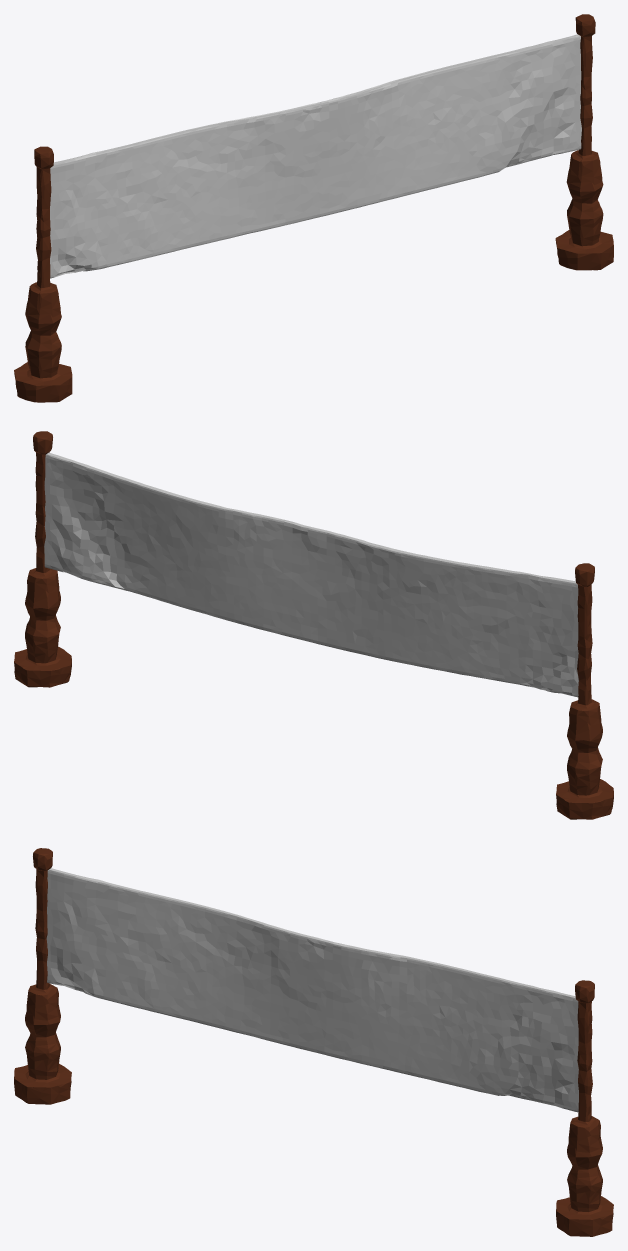
File: DesertLandSnakeFlag0321.obj
3 renders of one model, top to bottom at view 1: azimuth 30°, elevation 25°; view 2: azimuth 150°, elevation 25°; view 3: azimuth 330°, elevation 25°, orthographic.
Visible parts, largest first — view 1: Cube.003, Cube, Cube.002; view 2: Cube.003, Cube, Cube.002; view 3: Cube.003, Cube.002, Cube.
Part boxes in pixels (box(x1,y1,x2,y2)): Cube.003: box(50, 34, 581, 278); Cube: box(14, 146, 72, 402); Cube.002: box(555, 14, 613, 270); Cube.003: box(44, 452, 578, 697); Cube: box(556, 563, 613, 819); Cube.002: box(14, 431, 71, 687); Cube.003: box(46, 868, 578, 1112); Cube.002: box(556, 980, 613, 1236); Cube: box(14, 848, 71, 1104).
Size of the model in its own units: 27.57 by 10.7 by 2.57.
